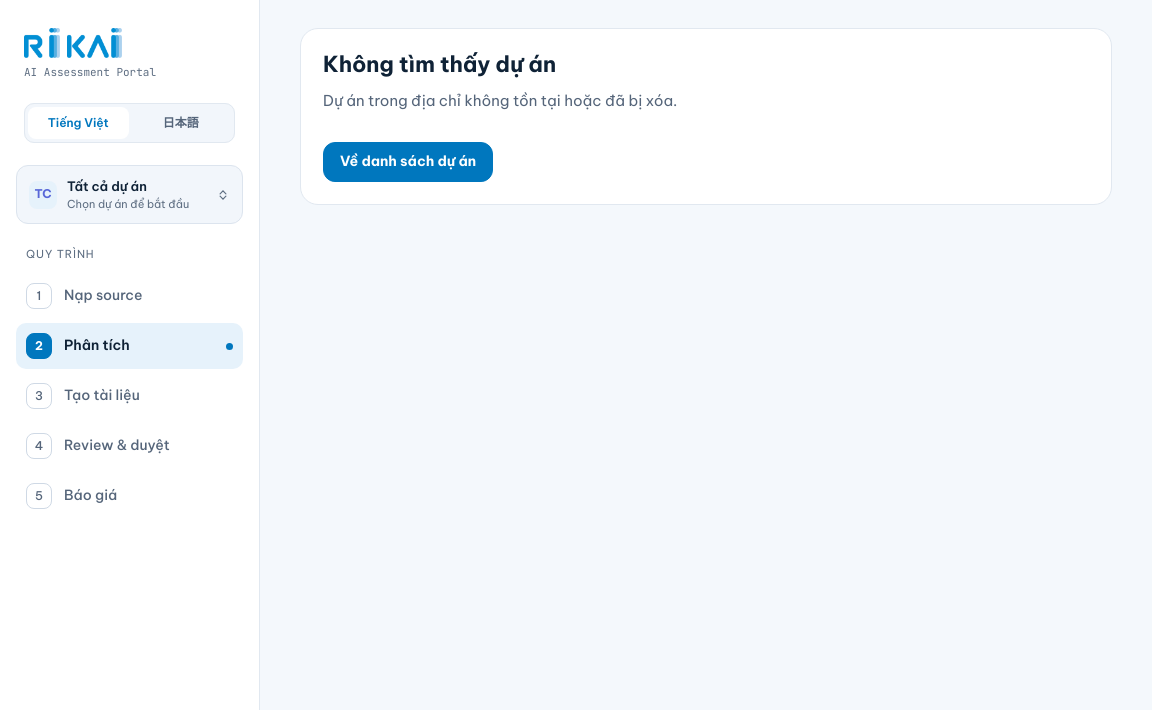
Test: reload at a step URL (UI01-AC01) › shows a not-found page with a link to the list for an unknown project
The width and height of the screenshot is (1152, 710).
Expected: the heading "Không tìm thấy dự án" is shown, [323,50,556,78]
Click the link "Về danh sách dự án": (408, 162) [323,142,493,182]
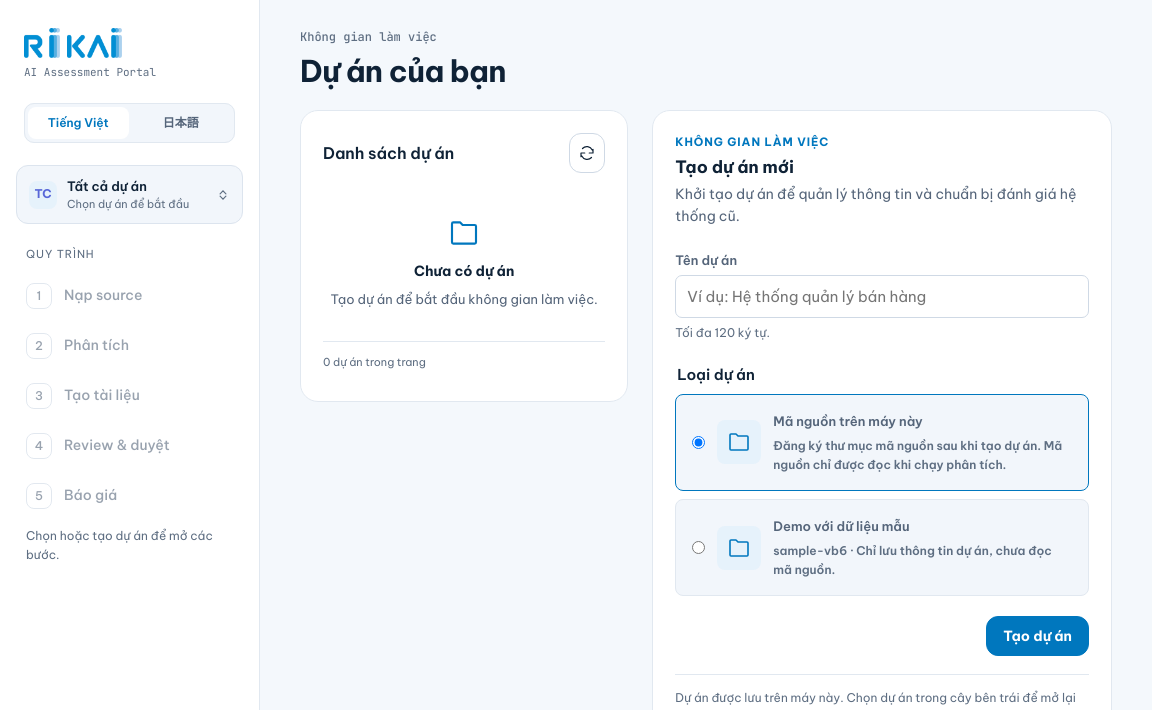
Now the heading "Dự án của bạn" is shown, box [300,52,506,90]
